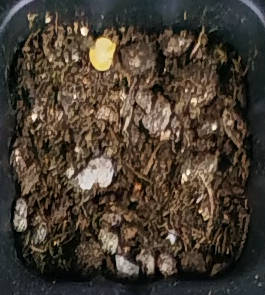chilli seed: (88, 36, 117, 71)
